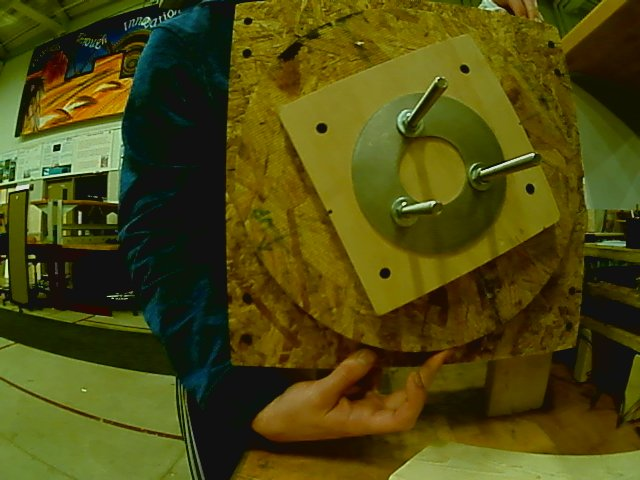bolt: (389, 195, 421, 231), (395, 108, 426, 140), (468, 161, 495, 192)
